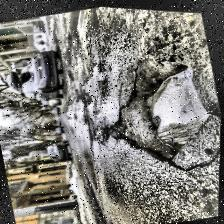pothole: (103, 55, 223, 168)
